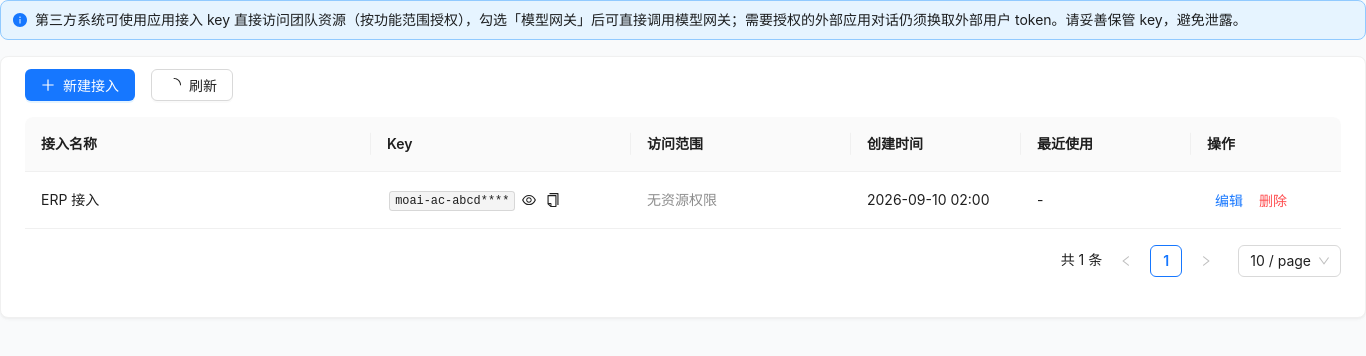
Test case: TeamAccessApps（团队应用接入分区） › 加载并展示接入列表，key 默认掩码可点击查看
The image size is (1366, 356).
Expected: the text "ERP 接入" is shown, x1=25 y1=172 x2=371 y2=229
Expected: the text "moai-ac-abcd****" is shown, x1=389 y1=191 x2=515 y2=211
Click the button named "点击查看完整 key".
click(529, 200)  # box x1=517 y1=188 x2=541 y2=212
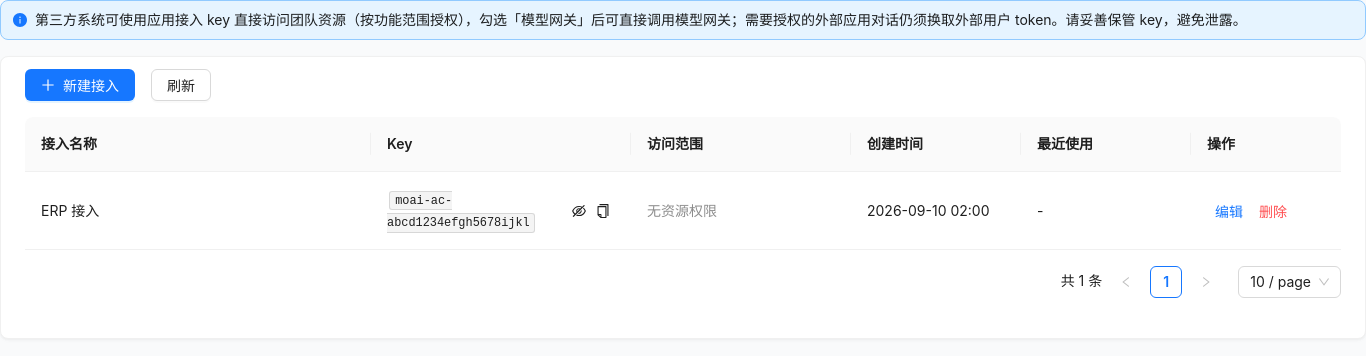
Now the text "moai-ac-abcd1234efgh5678ijkl" is shown, box x1=387 y1=191 x2=536 y2=233
